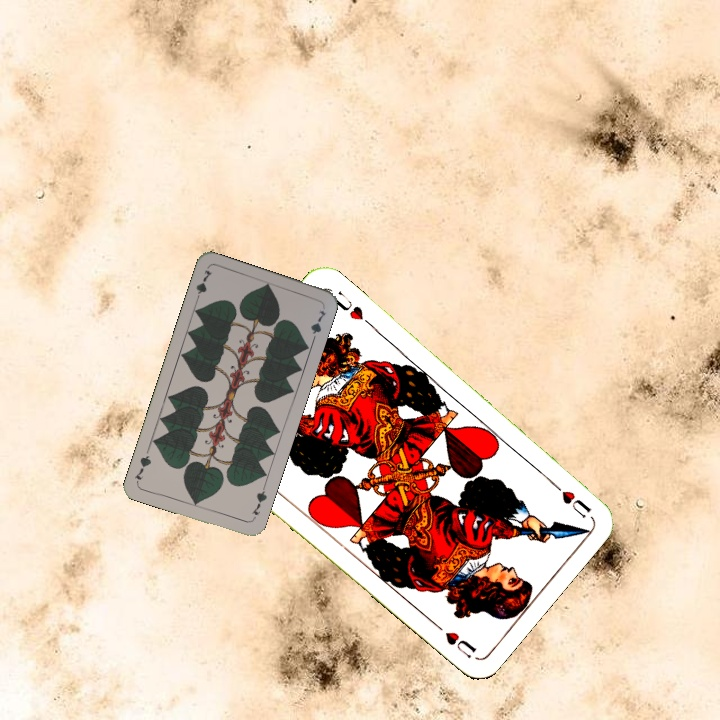G7: (192, 266, 215, 305), (248, 483, 270, 518)
HU: (545, 475, 594, 521)
